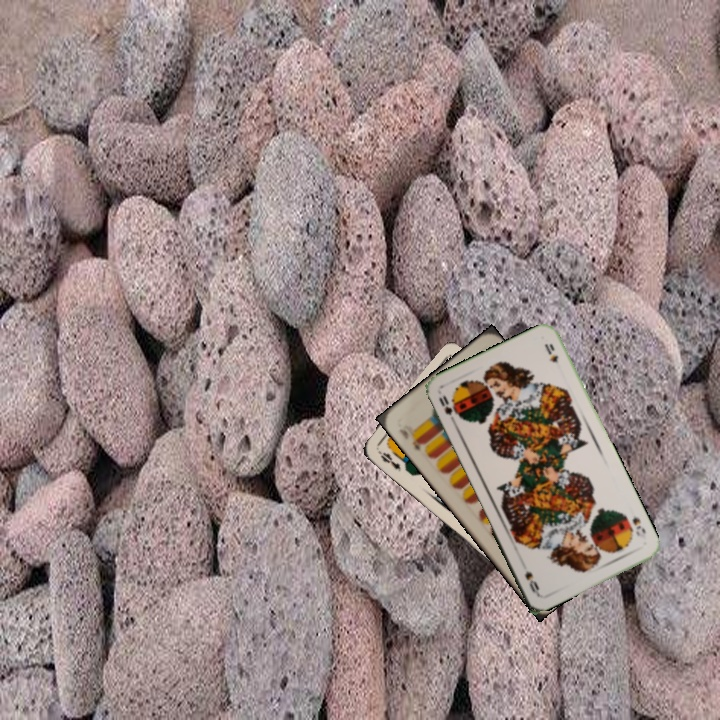E10: (395, 425, 426, 453)
EO: (373, 446, 404, 475)
SO: (435, 391, 459, 427), (628, 513, 649, 542)
